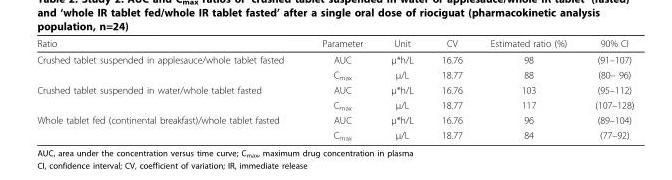table: (36, 37, 633, 141)
table column: (36, 37, 302, 141), (475, 37, 580, 141), (302, 37, 376, 141), (580, 37, 633, 141), (376, 37, 426, 141), (426, 37, 475, 141)
table column header: (36, 37, 633, 51)
table row: (36, 66, 633, 82), (36, 51, 633, 66), (36, 82, 633, 97), (36, 97, 633, 112), (36, 112, 633, 127), (36, 37, 633, 51), (36, 127, 633, 141)
table spanning cell: (36, 51, 302, 82), (36, 82, 302, 112), (36, 112, 302, 141)
